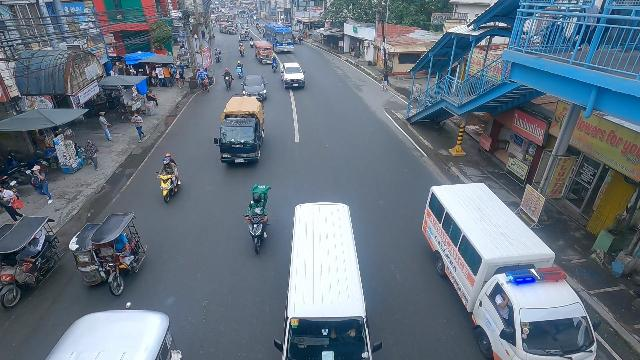bus: (268, 22, 294, 52)
car: (241, 73, 268, 100)
jeepney: (253, 41, 274, 63), (218, 21, 238, 34)
motorcycle: (245, 186, 272, 254), (154, 153, 182, 202), (223, 68, 233, 90), (235, 60, 244, 79), (214, 47, 222, 63), (271, 58, 279, 73), (238, 44, 245, 57), (248, 36, 254, 48), (256, 22, 259, 30), (258, 25, 261, 33)
truck: (215, 97, 265, 166), (280, 63, 307, 90)
van: (422, 181, 596, 360), (272, 200, 377, 360)
